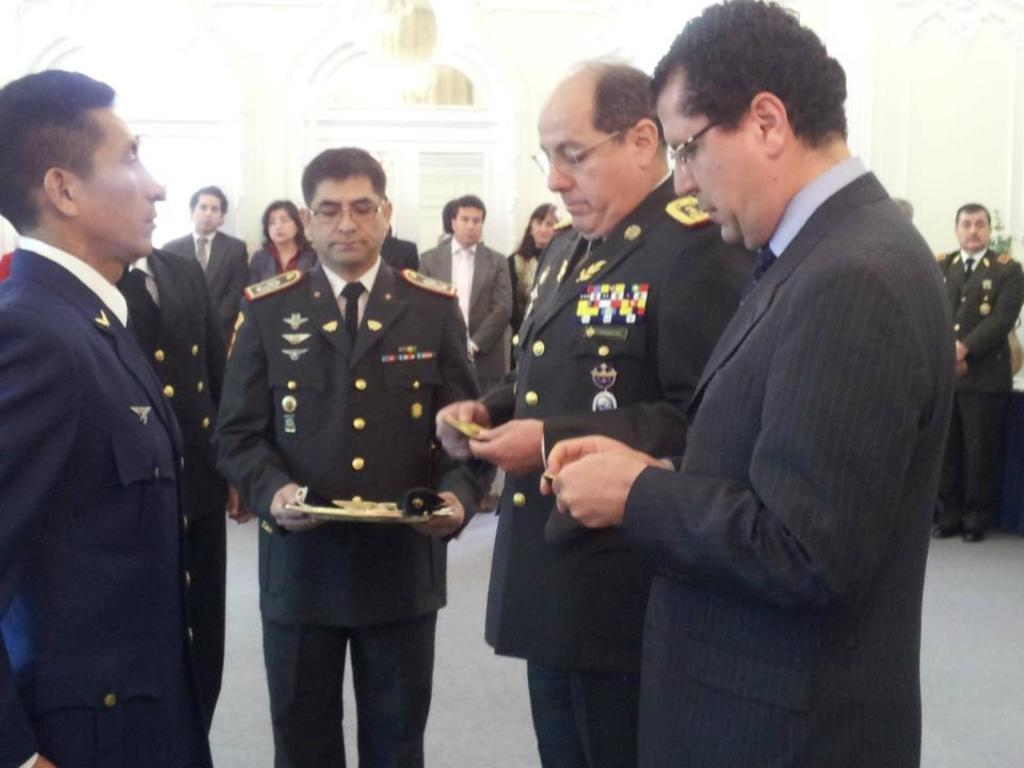Pessoa: (549, 0, 953, 767), (439, 62, 749, 767), (215, 148, 478, 767), (0, 70, 211, 767), (117, 249, 227, 729), (933, 203, 1023, 541), (420, 195, 511, 391), (163, 186, 248, 340), (508, 203, 557, 334), (248, 199, 315, 282), (381, 227, 418, 270)
